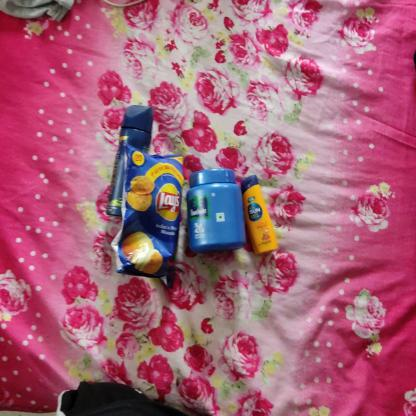indian_magic_masala: (118, 146, 182, 282)
